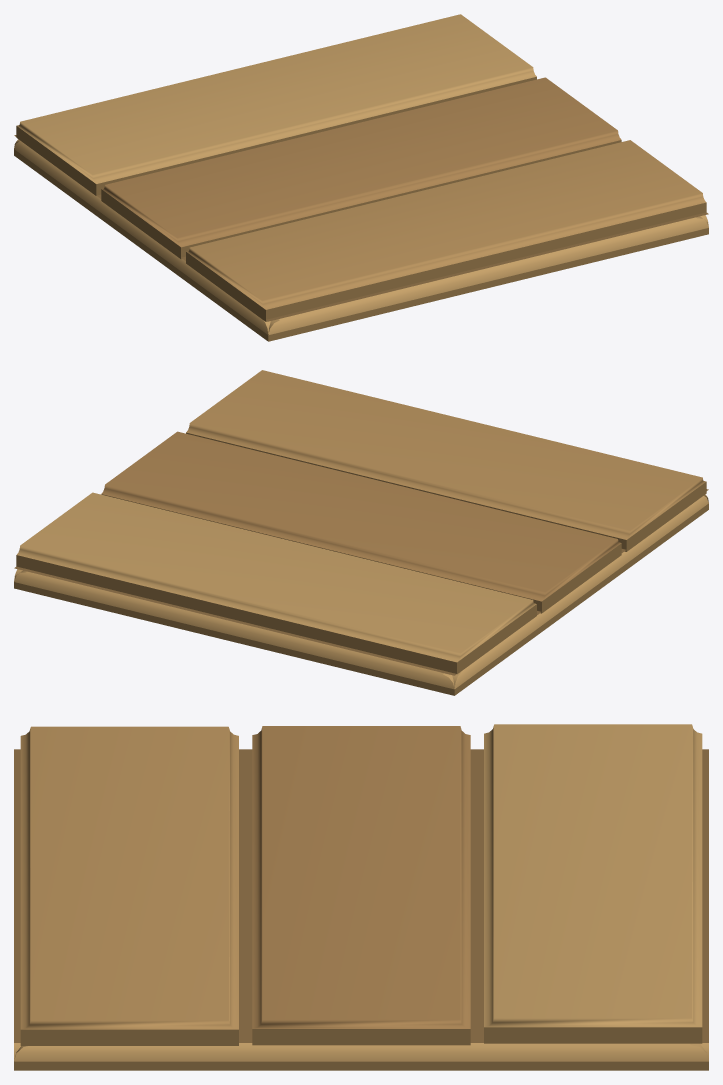
File: tile_layer_surface_master_wood.glb
3 views of the same model, one above another, from view 1: azimuth 30°, elevation 25°; view 2: azimuth 150°, elevation 25°; view 3: azimuth 270°, elevation 25° (orthographic). The views are drawn at different scales.
Parts seen in each view (by area): view 1: tile_layer_surface_master_wood_cap; view 2: tile_layer_surface_master_wood_cap; view 3: tile_layer_surface_master_wood_cap.
Part boxes in pixels (x1=…): tile_layer_surface_master_wood_cap: x1=14, y1=14, x2=708, y2=341; tile_layer_surface_master_wood_cap: x1=14, y1=370, x2=708, y2=695; tile_layer_surface_master_wood_cap: x1=14, y1=724, x2=708, y2=1070.
Size of the model in its own units: 1.35 by 0.118 by 1.35.
